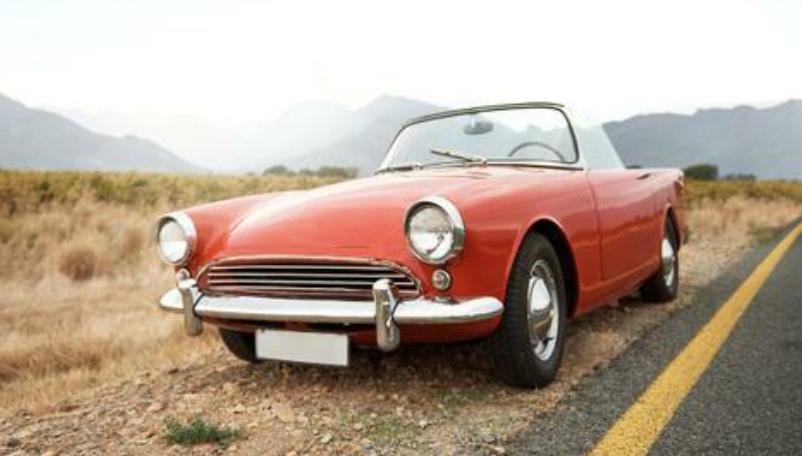car: (130, 90, 698, 380)
